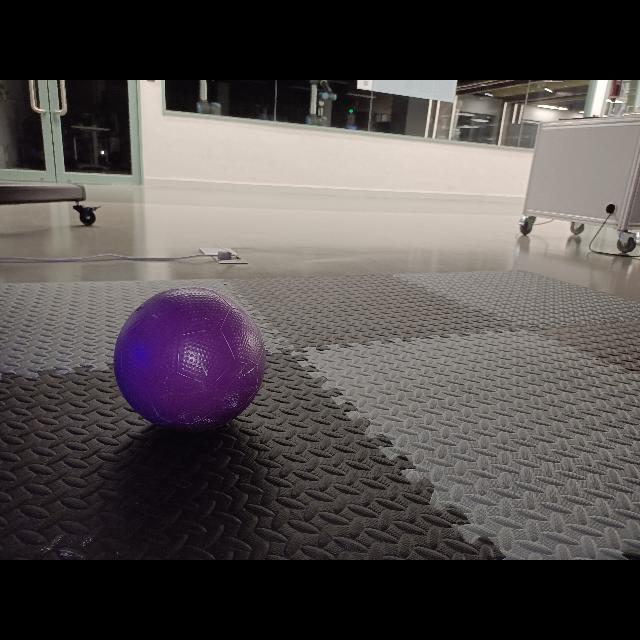P: (114, 294, 264, 431)
